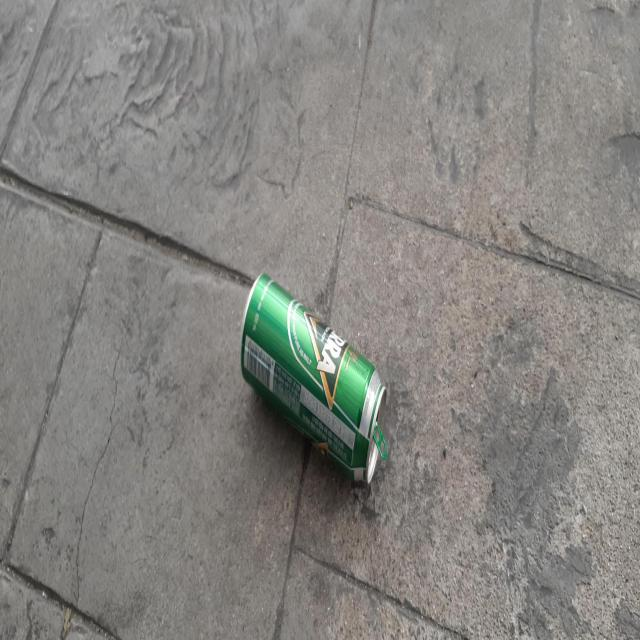can: (241, 271, 388, 482)
